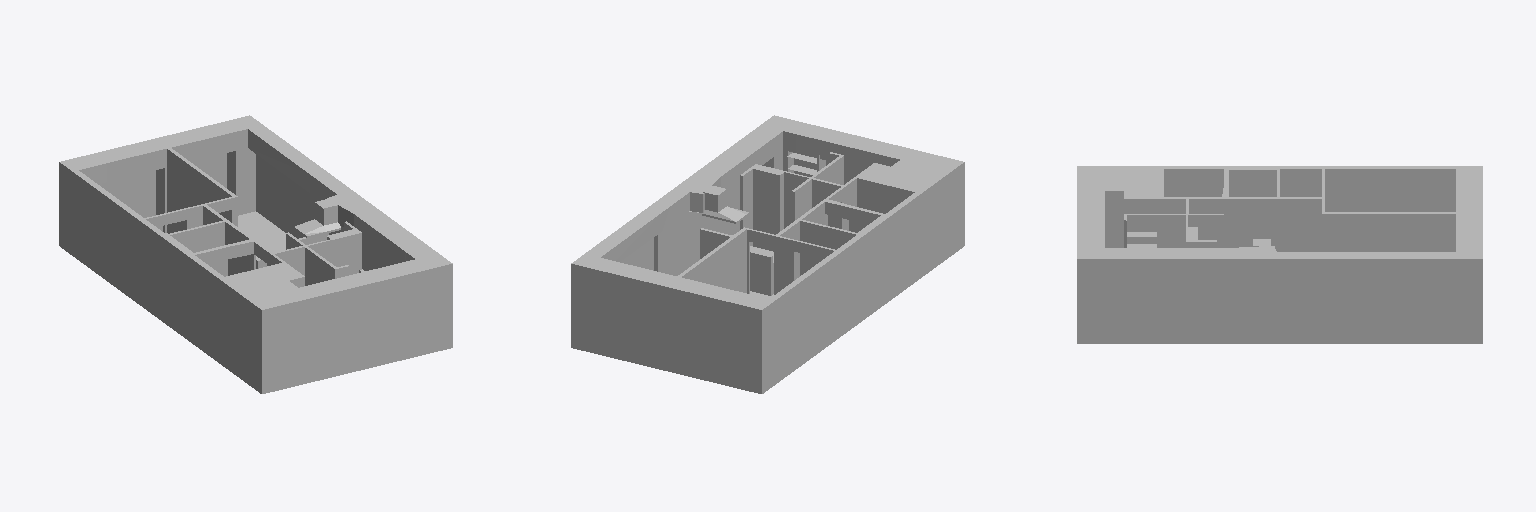
Rendered from shirokane.obj.
The picture shows the model from 3 angles: view 1: azimuth 30°, elevation 25°; view 2: azimuth 150°, elevation 25°; view 3: azimuth 270°, elevation 25°; orthographic projection.
Visible parts, largest first — view 1: Room_Cube.001; view 2: Room_Cube.001; view 3: Room_Cube.001.
Boxes of the visible parts, box(x1,y1,x2,y2) form: Room_Cube.001: box(59, 115, 452, 393); Room_Cube.001: box(571, 115, 964, 393); Room_Cube.001: box(1077, 166, 1482, 343).
Size of the model in its own units: 12.37 by 5.43 by 22.73.